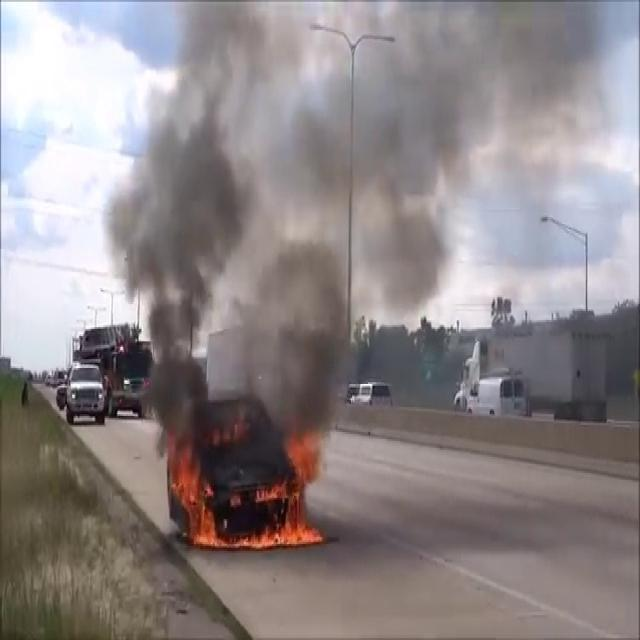Fire: (168, 434, 328, 554)
Smoke: (109, 1, 612, 403)
